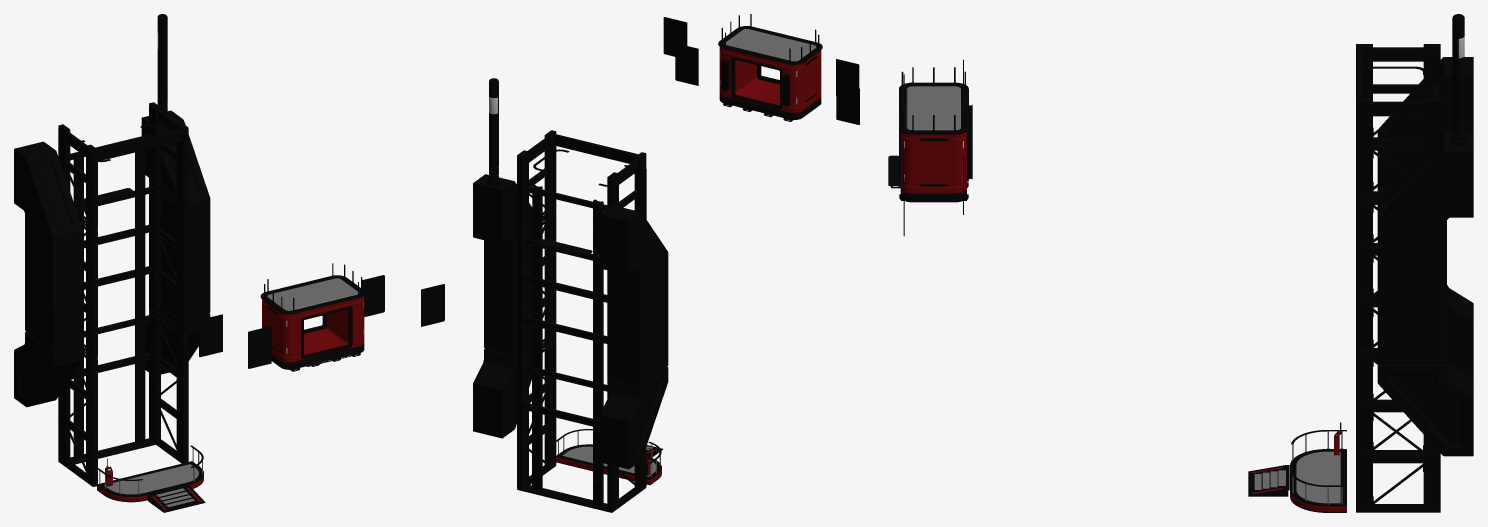
File: ThangMay.fbx
3 views of the same model, side by side, from view 1: azimuth 30°, elevation 25°; view 2: azimuth 150°, elevation 25°; view 3: azimuth 270°, elevation 25° (orthographic). The views are drawn at different scales.
Visible parts, largest first — view 1: KB3D_MTM_BldgLgLandingPad_A_PlatformB.224, KB3D_MTM_BldgLgLandingPad_A_PlatformB.083, KB3D_MTM_BldgLgLandingPad_A_PlatformB.062, KB3D_MTM_BldgLgLandingPad_A_PlatformB.064, KB3D_MTM_BldgLgLandingPad_A_PlatformB.065, KB3D_MTM_BldgLgLandingPad_A_PlatformB.059; view 2: KB3D_MTM_BldgLgLandingPad_A_PlatformB.224, KB3D_MTM_BldgLgLandingPad_A_PlatformB.083, KB3D_MTM_BldgLgLandingPad_A_PlatformB.062, KB3D_MTM_BldgLgLandingPad_A_PlatformB.059, KB3D_MTM_BldgLgLandingPad_A_PlatformB.065, KB3D_MTM_BldgLgLandingPad_A_PlatformB.064; view 3: KB3D_MTM_BldgLgLandingPad_A_PlatformB.224, KB3D_MTM_BldgLgLandingPad_A_PlatformB.083.
Part boxes in pixels (left/top/right/bottom): KB3D_MTM_BldgLgLandingPad_A_PlatformB.224: left=14, top=14, right=210, bottom=512; KB3D_MTM_BldgLgLandingPad_A_PlatformB.083: left=260, top=263, right=365, bottom=371; KB3D_MTM_BldgLgLandingPad_A_PlatformB.062: left=199, top=314, right=222, bottom=357; KB3D_MTM_BldgLgLandingPad_A_PlatformB.064: left=248, top=326, right=271, bottom=368; KB3D_MTM_BldgLgLandingPad_A_PlatformB.065: left=421, top=284, right=444, bottom=326; KB3D_MTM_BldgLgLandingPad_A_PlatformB.059: left=362, top=275, right=384, bottom=316; KB3D_MTM_BldgLgLandingPad_A_PlatformB.224: left=473, top=78, right=668, bottom=512; KB3D_MTM_BldgLgLandingPad_A_PlatformB.083: left=718, top=14, right=822, bottom=121; KB3D_MTM_BldgLgLandingPad_A_PlatformB.062: left=836, top=82, right=859, bottom=124; KB3D_MTM_BldgLgLandingPad_A_PlatformB.059: left=675, top=43, right=698, bottom=85; KB3D_MTM_BldgLgLandingPad_A_PlatformB.065: left=663, top=17, right=687, bottom=56; KB3D_MTM_BldgLgLandingPad_A_PlatformB.064: left=836, top=59, right=859, bottom=95; KB3D_MTM_BldgLgLandingPad_A_PlatformB.224: left=1248, top=14, right=1473, bottom=512; KB3D_MTM_BldgLgLandingPad_A_PlatformB.083: left=888, top=67, right=972, bottom=202.
Size of the model in its own units: 1535 by 2745 by 2873.
